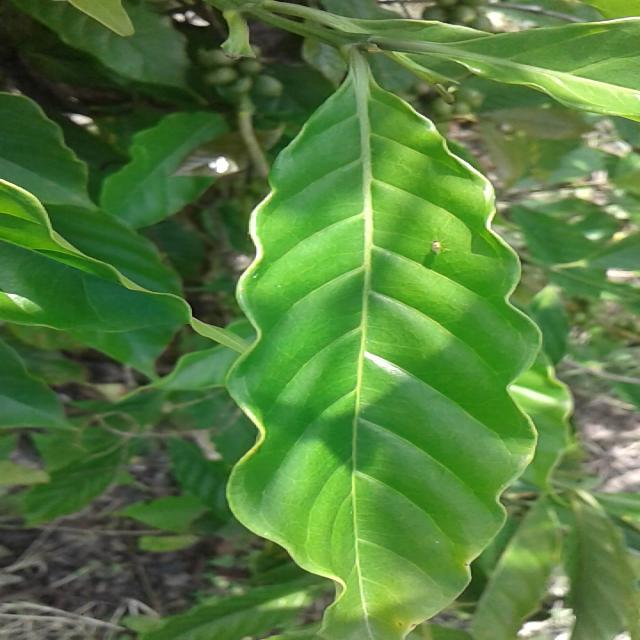Sanas: (223, 48, 632, 640)
